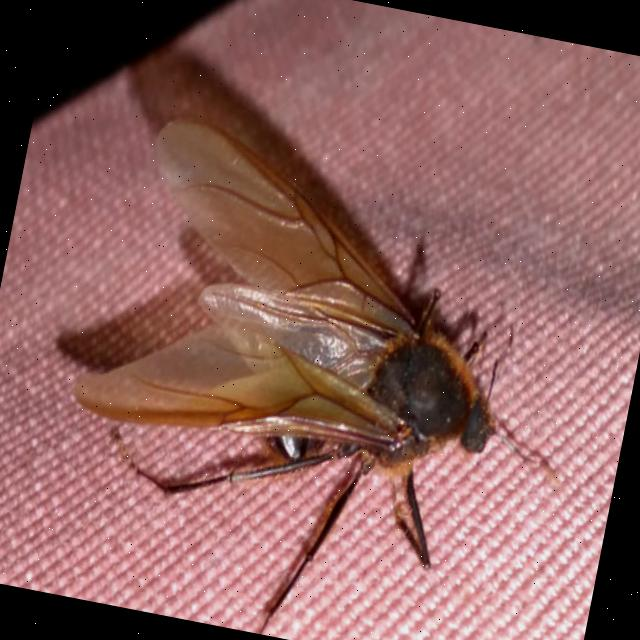Alive-Male-Alate: (34, 100, 619, 640)
